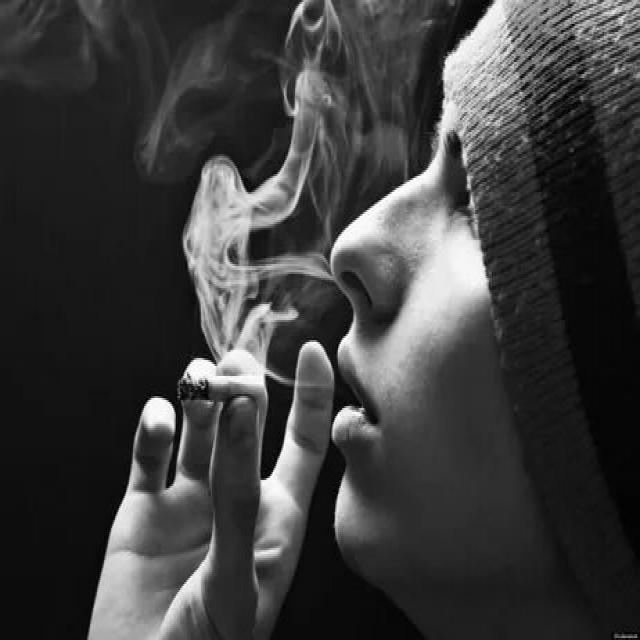cigarette: (174, 360, 268, 410)
